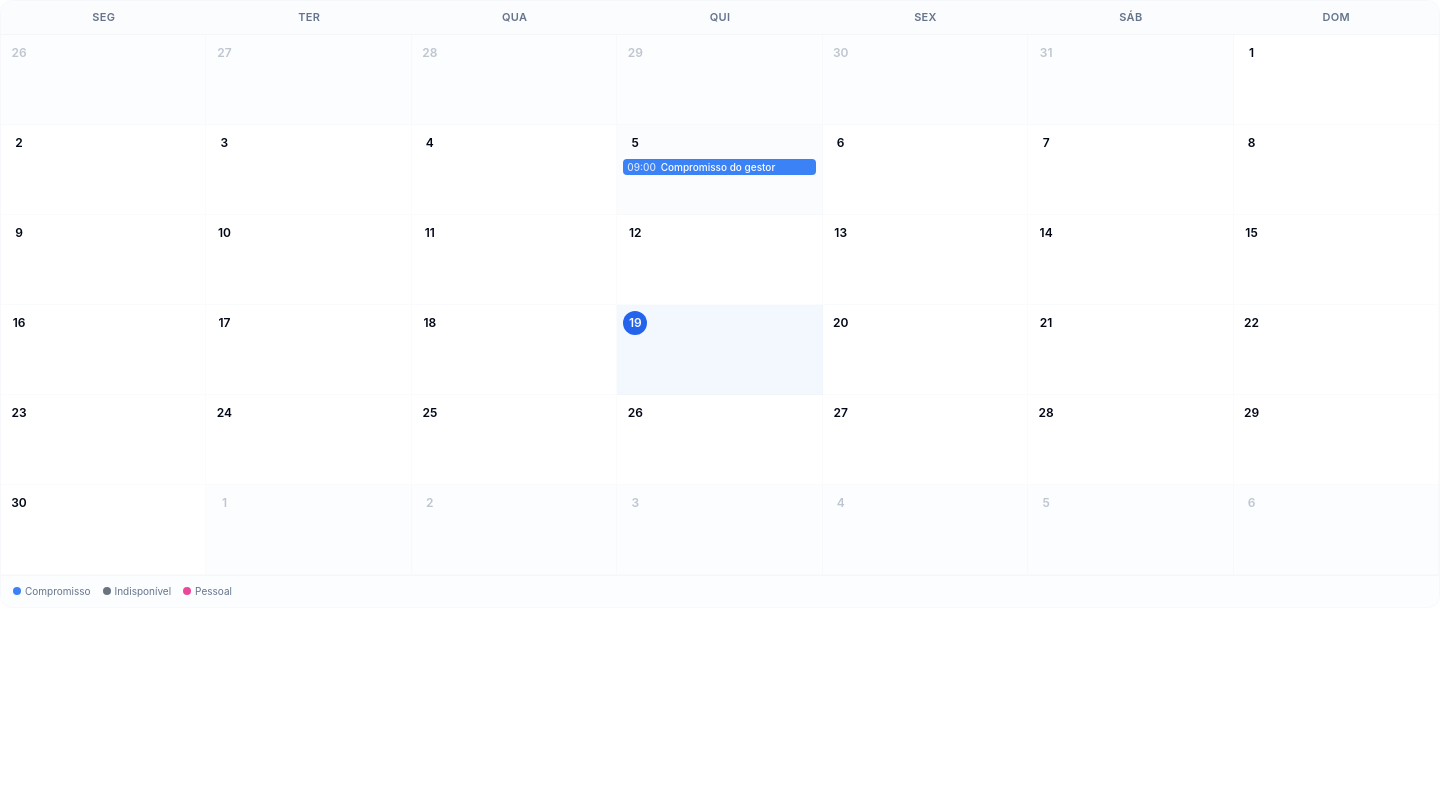
it: AgendaMonthView › offers no answer actions for an appointment that is no longer pending (COLAB-13)
Click the text "Compromisso do gestor" at x=720, y=167, box x1=623 y1=158 x2=816 y2=175
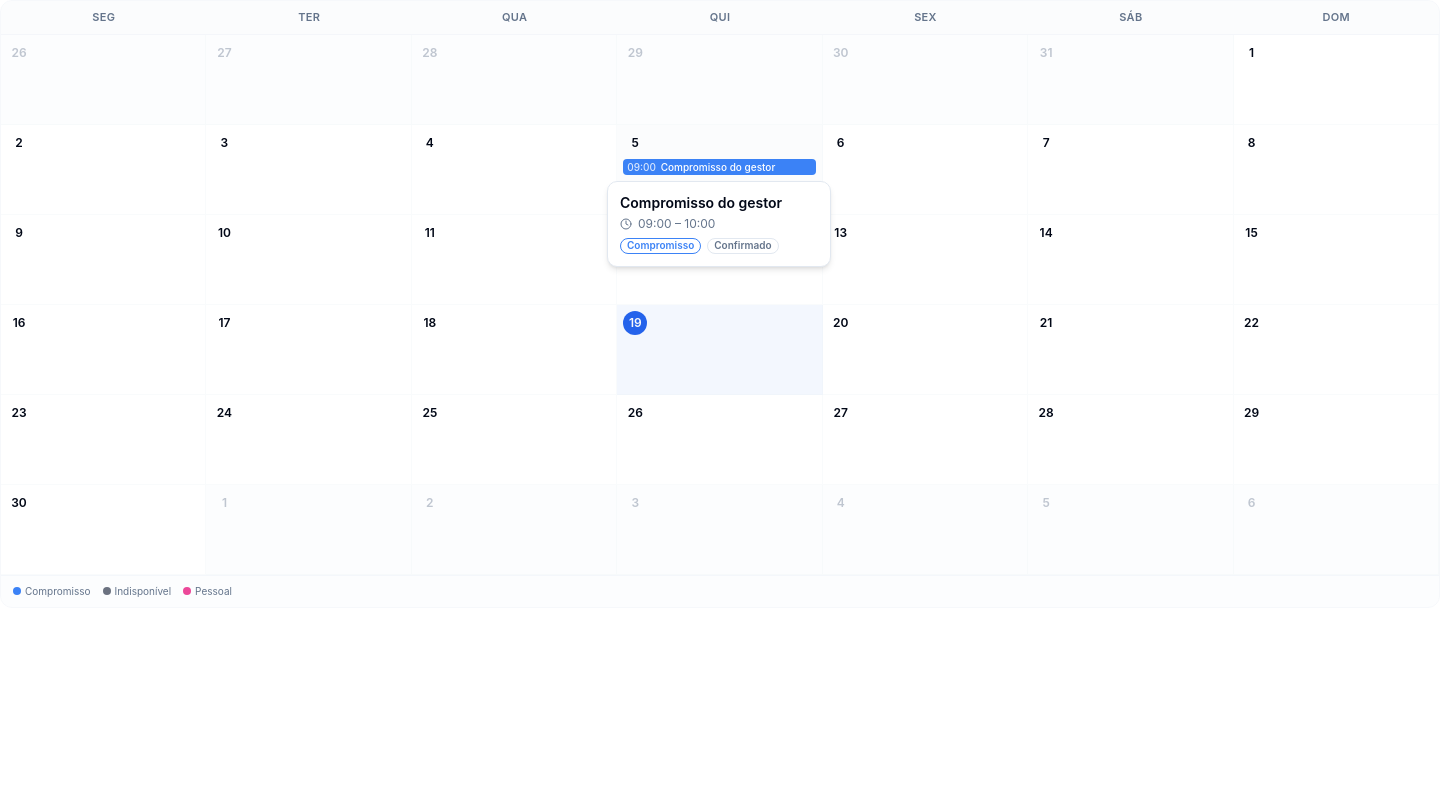
Expected: the text "Confirmado" is shown, x1=707 y1=238 x2=779 y2=254
